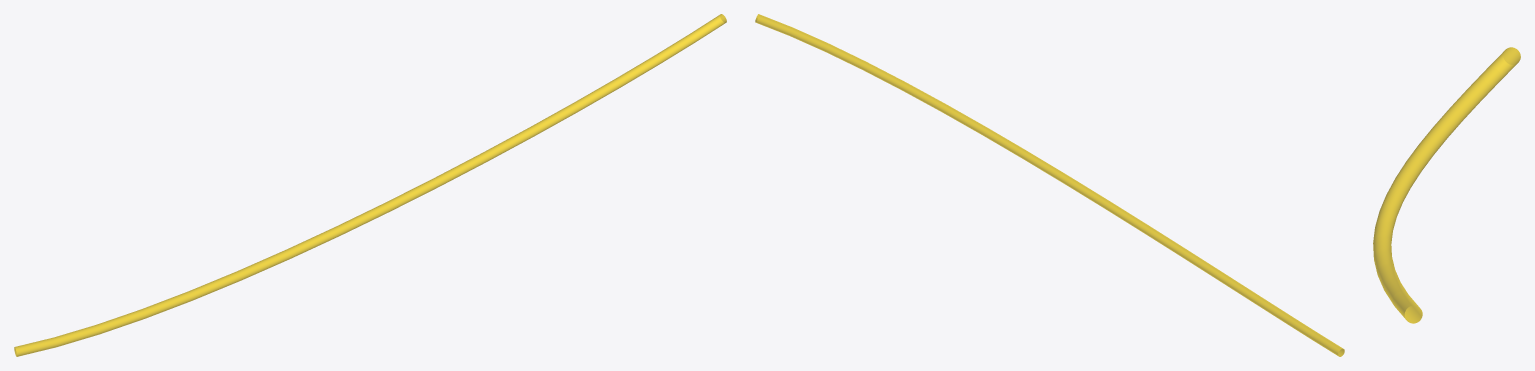
File: Event_84804159_track_79.fbx
The picture shows the model from 3 angles, left to right: view 1: azimuth 30°, elevation 25°; view 2: azimuth 150°, elevation 25°; view 3: azimuth 270°, elevation 25°; orthographic projection. The views are drawn at different scales.
Parts seen in each view (by area): view 1: Model; view 2: Model; view 3: Model.
Part boxes in pixels (x1,y1,x2,y2): Model: [14, 14, 726, 356]; Model: [755, 14, 1344, 356]; Model: [1373, 47, 1520, 323].
Size of the model in its own units: 3.08 by 0.8471 by 0.3222.
